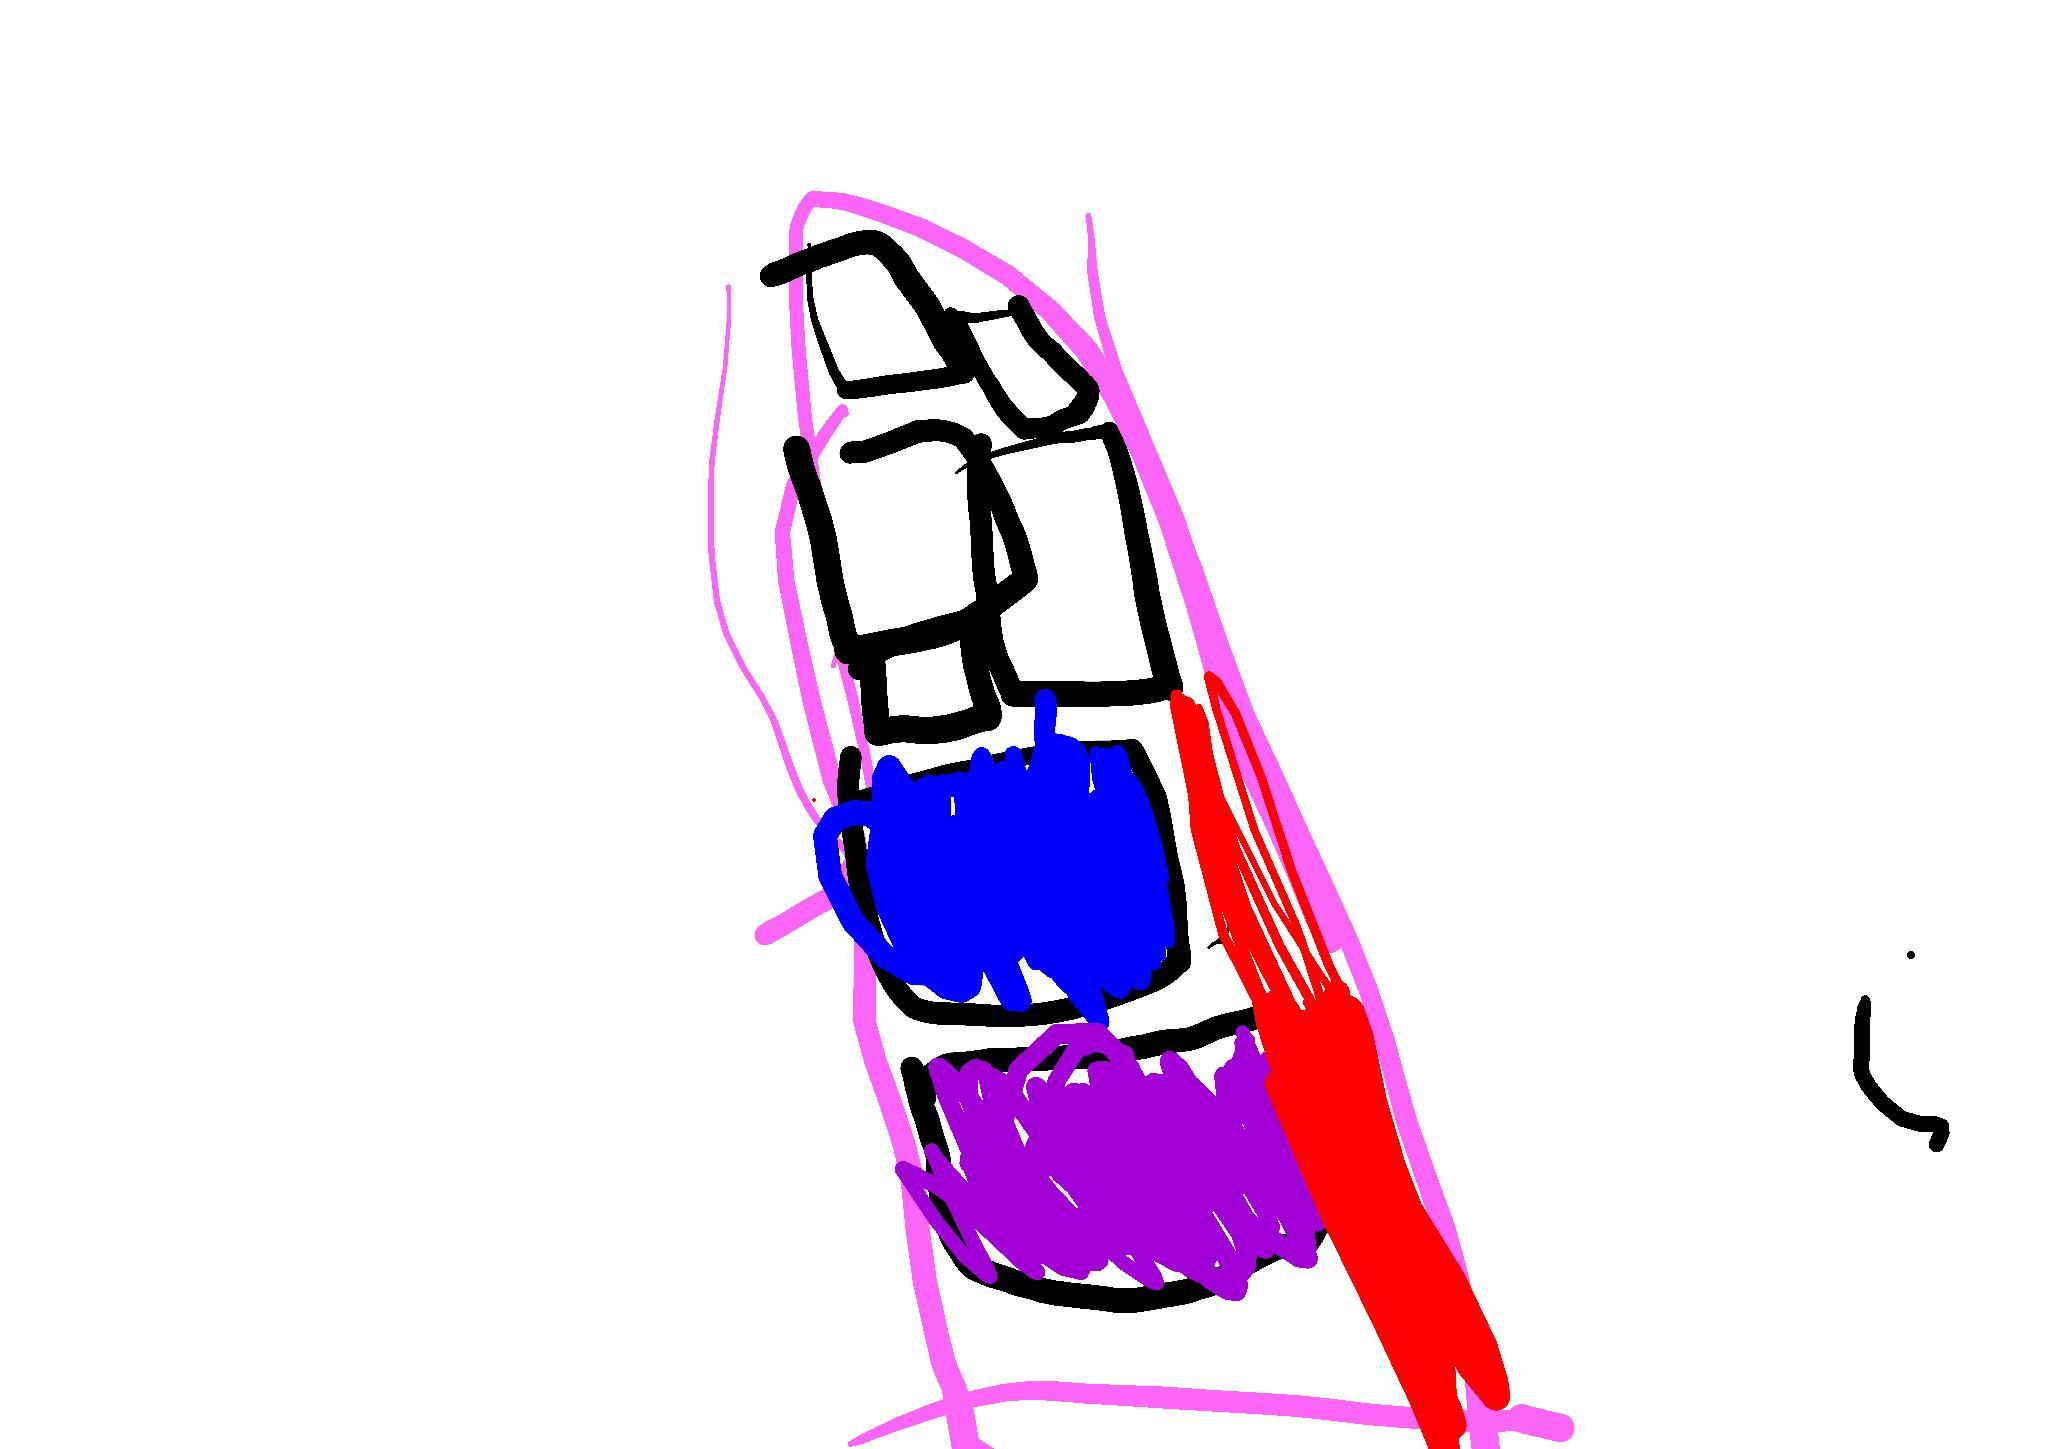house: (748, 165, 1578, 1449)
window: (927, 1027, 1327, 1302), (841, 740, 1175, 1024), (795, 416, 1046, 665), (996, 427, 1157, 704), (812, 254, 942, 378), (972, 315, 1076, 414), (886, 645, 971, 717)
